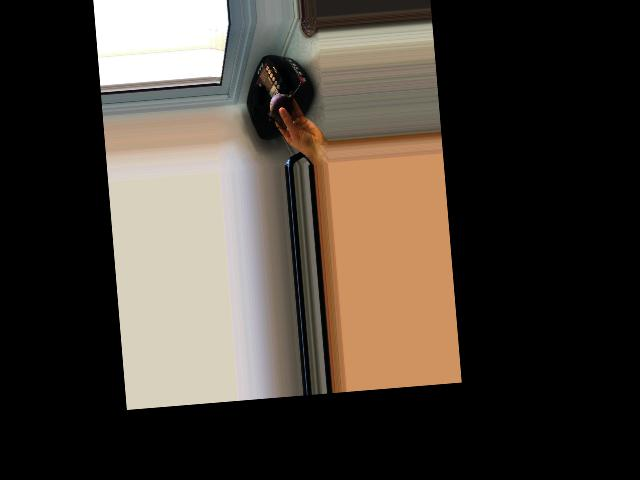beet: (265, 81, 305, 128)
